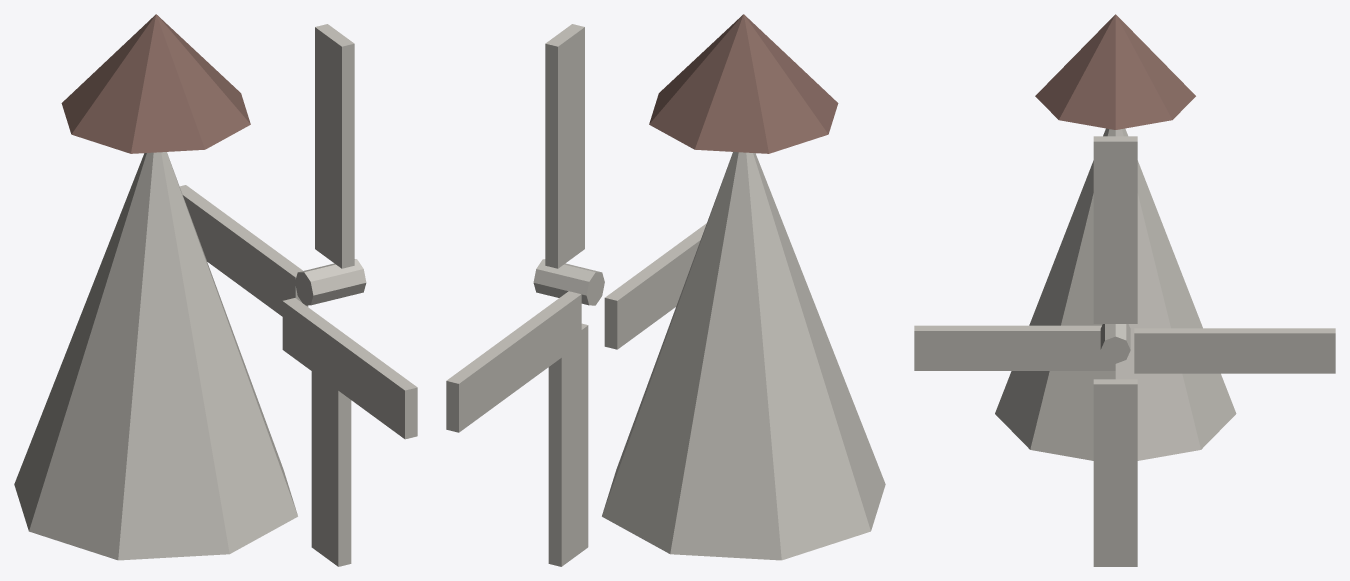
The picture shows the model from 3 angles, left to right: view 1: azimuth 30°, elevation 25°; view 2: azimuth 150°, elevation 25°; view 3: azimuth 270°, elevation 25°; orthographic projection. The views are drawn at different scales.
Parts seen in each view (by area): view 1: part0, part1, part3, part6, part5, part4, part2; view 2: part0, part1, part3, part5, part4, part6, part2; view 3: part0, part1, part4, part6, part3, part5, part2.
Part boxes in pixels (x1,y1,x2,y2): part0: [14, 152, 297, 560]; part1: [61, 14, 250, 153]; part3: [315, 24, 354, 268]; part6: [282, 298, 417, 439]; part5: [311, 371, 351, 566]; part4: [179, 185, 308, 316]; part2: [295, 259, 366, 305]; part0: [602, 152, 885, 560]; part1: [649, 14, 838, 153]; part3: [545, 24, 584, 268]; part5: [548, 323, 588, 566]; part4: [446, 291, 581, 432]; part6: [604, 223, 706, 349]; part2: [533, 259, 604, 305]; part0: [995, 128, 1236, 460]; part1: [1035, 14, 1195, 129]; part4: [1134, 328, 1335, 373]; part6: [914, 325, 1115, 370]; part3: [1093, 136, 1137, 323]; part5: [1093, 379, 1137, 566]; part2: [1100, 324, 1130, 363].
Size of the model in its own units: 3.09 by 5.26 by 4.19.
